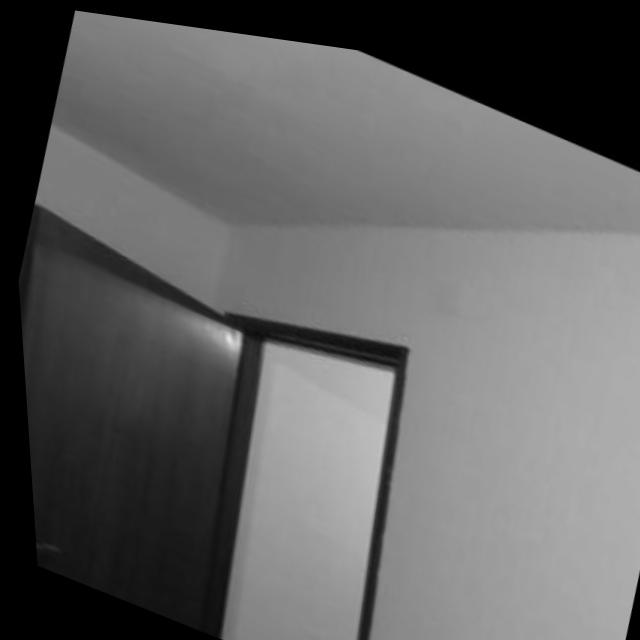door_handle: (27, 515, 64, 575)
